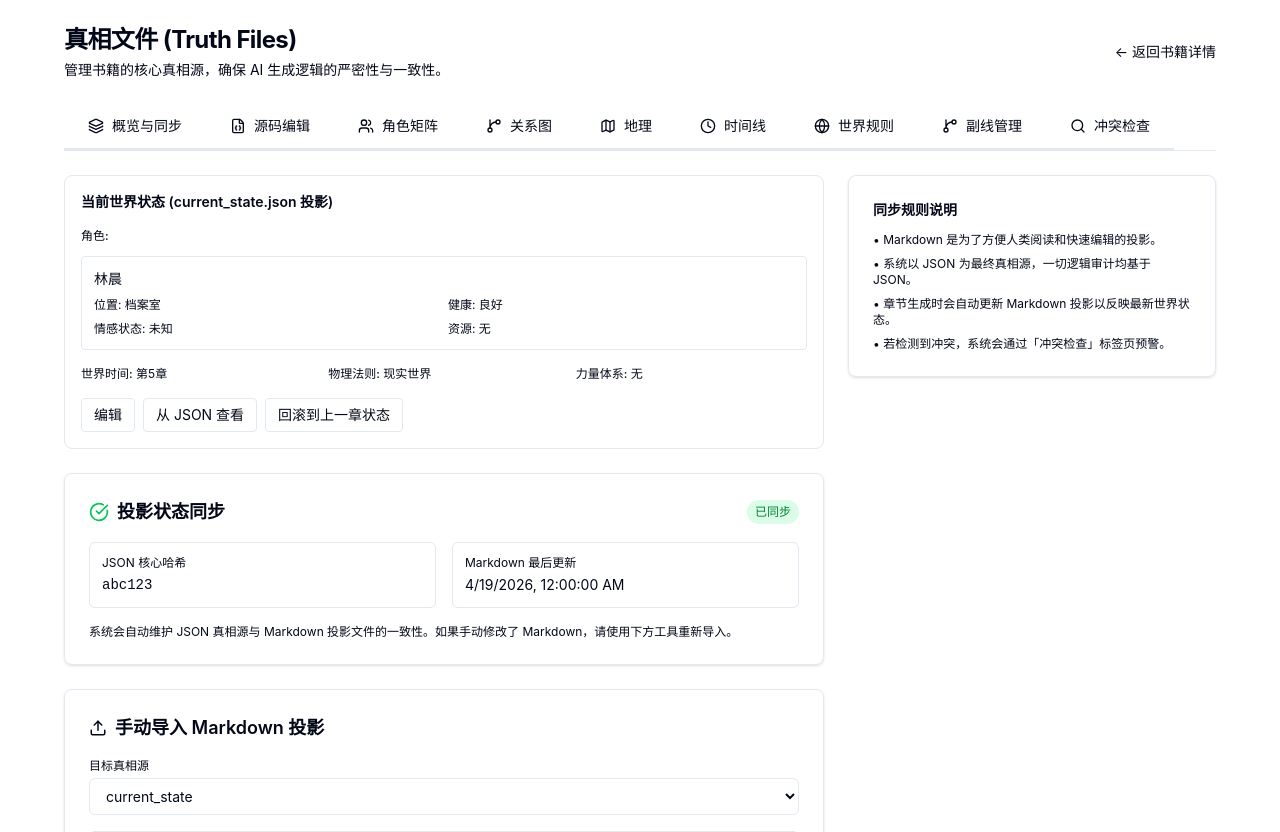
Test case: TruthFiles Page › 从概览卡片进入 current_state 的 JSON 查看
This screenshot has width=1280, height=832.
Check: the heading "当前世界状态 (current_state.json 投影)" is shown, box [81,193,333,210]
Click the button "从 JSON 查看" at (200, 415), box [143,398,257,432]
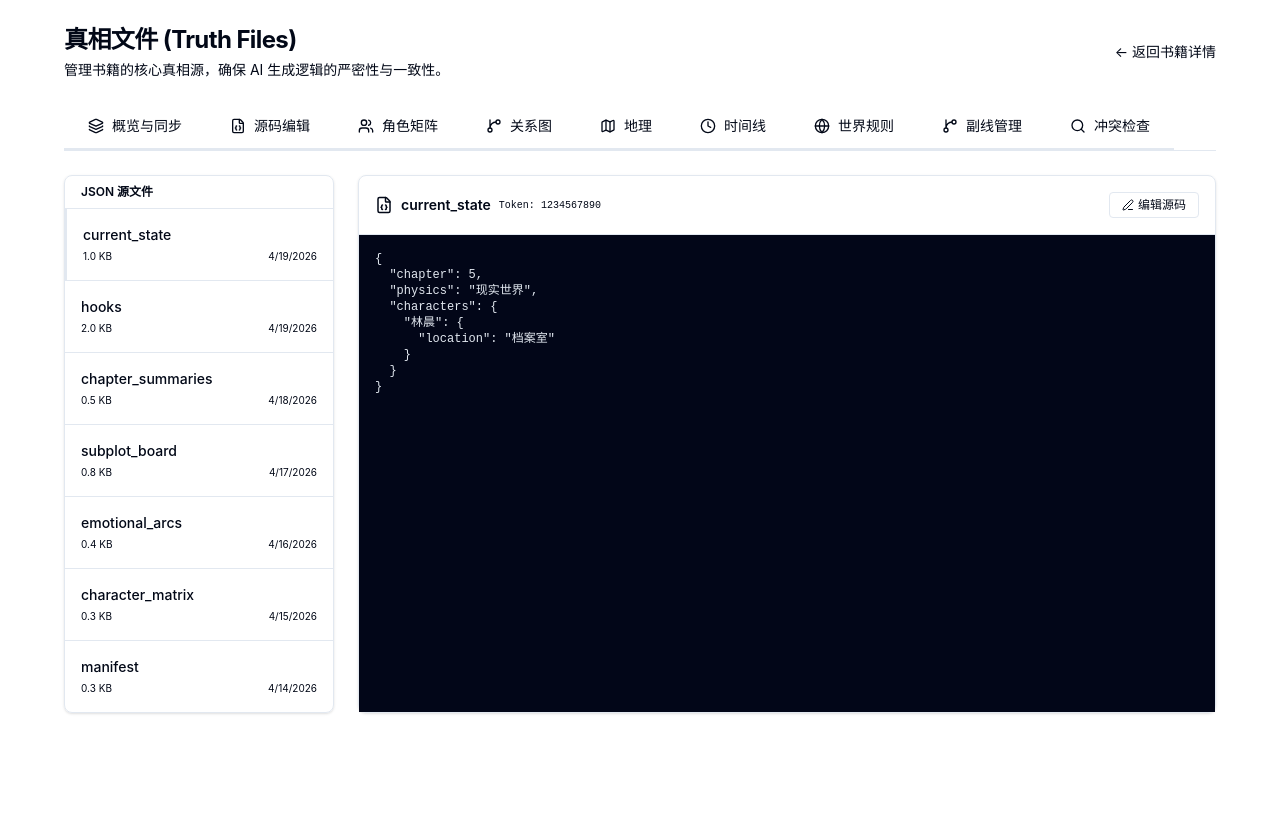
Check: the heading "JSON 源文件" is shown, box [81,184,153,199]
Check: the button "编辑源码" is shown, box [1109,192,1199,218]
